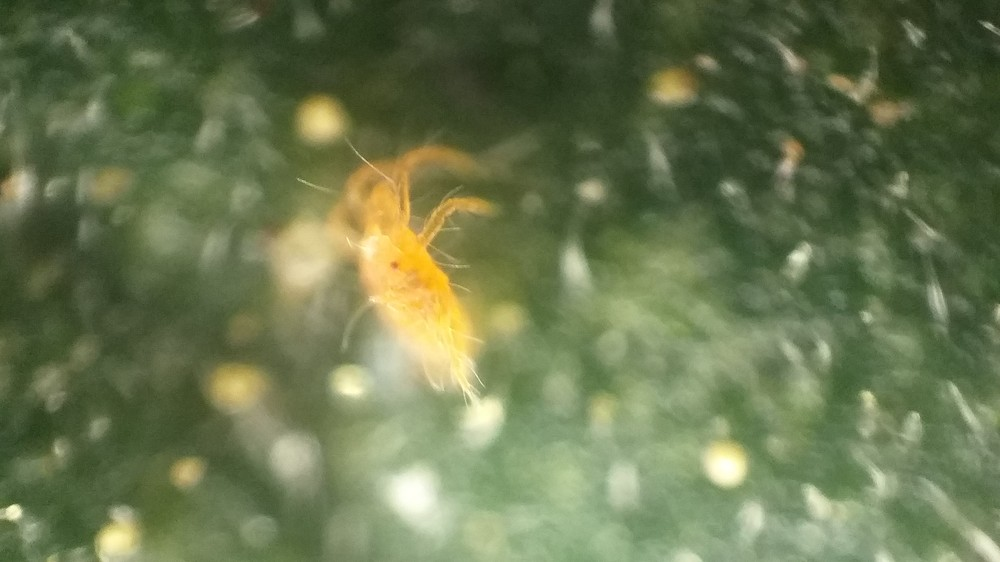Aracnido Rojo: (317, 138, 534, 433)
